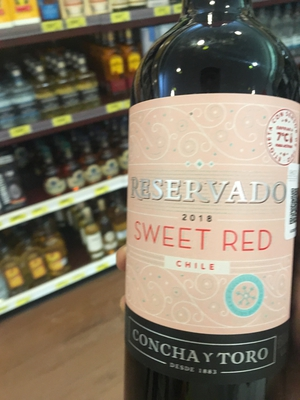reservado sweet red: (109, 17, 298, 400)
